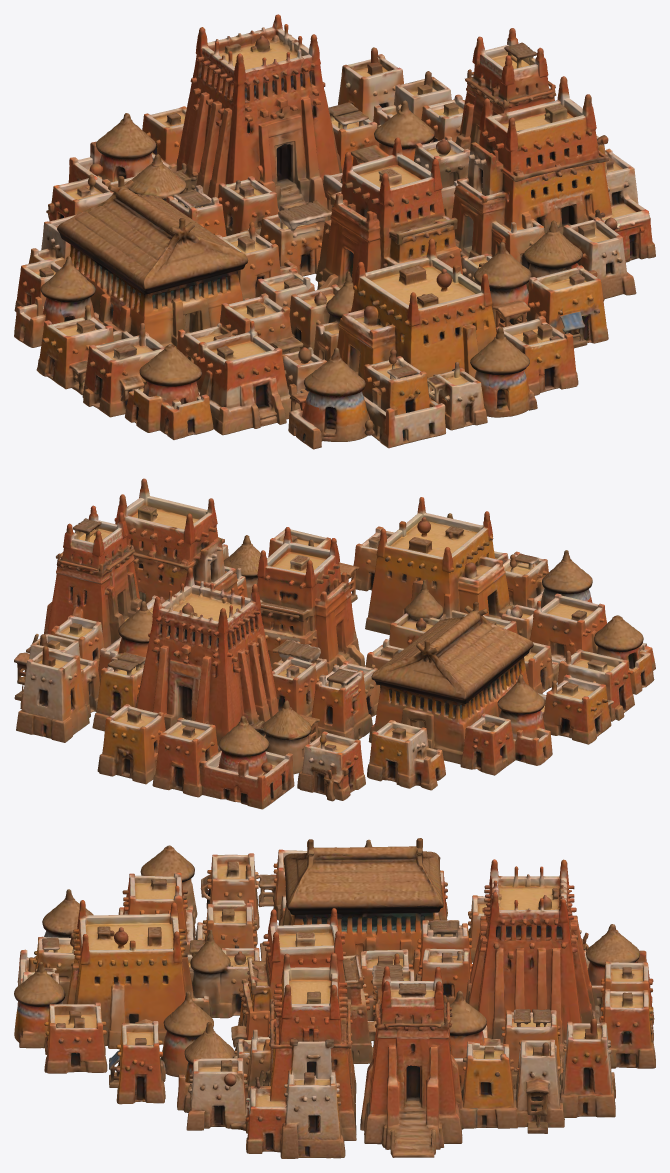
File: Classical City (West African).fbx
3 views of the same model, one above another, from view 1: azimuth 30°, elevation 25°; view 2: azimuth 150°, elevation 25°; view 3: azimuth 270°, elevation 25° (orthographic). The views are drawn at different scales.
Parts seen in each view (by area): view 1: tripo_node_14080c37; view 2: tripo_node_14080c37; view 3: tripo_node_14080c37.
Boxes of the visible parts, bbox=[...] form: tripo_node_14080c37: bbox=[14, 14, 655, 449]; tripo_node_14080c37: bbox=[14, 478, 655, 809]; tripo_node_14080c37: bbox=[14, 838, 655, 1158].
Size of the model in its own units: 0.994 by 0.2964 by 1.
